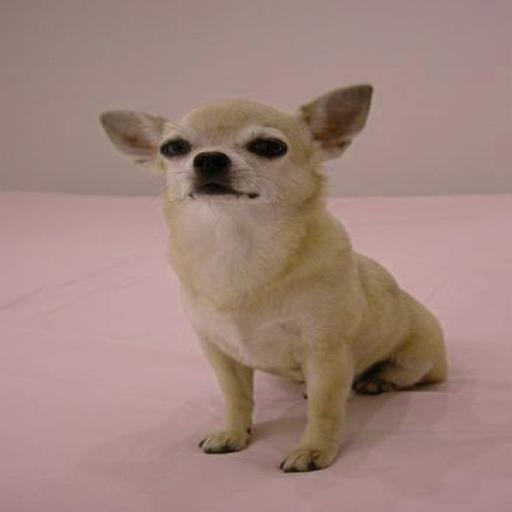dog_face: (108, 90, 368, 205)
